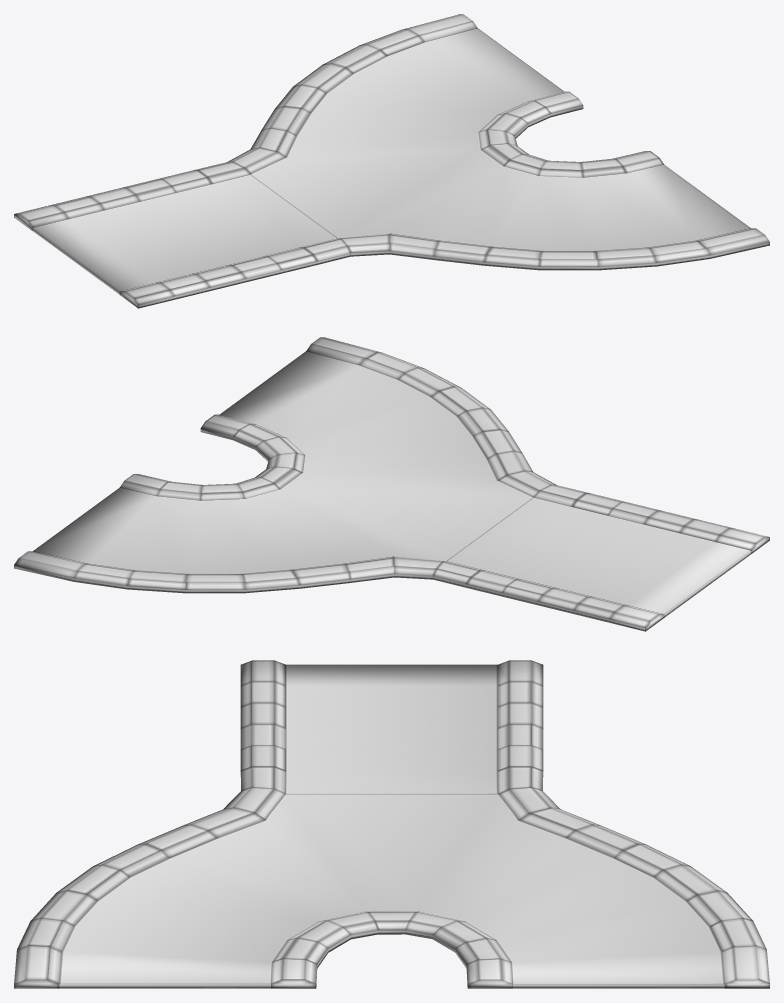
The model's file is Track-07.fbx.
The picture shows the model from 3 angles, top to bottom: view 1: azimuth 30°, elevation 25°; view 2: azimuth 150°, elevation 25°; view 3: azimuth 270°, elevation 25°; orthographic projection. The views are drawn at different scales.
Visible parts, largest first — view 1: Track-07; view 2: Track-07; view 3: Track-07.
Boxes of the visible parts, x1,y1,x2,y2 form: Track-07: (14, 14, 769, 308); Track-07: (14, 337, 769, 631); Track-07: (14, 660, 769, 988).
Size of the model in its own units: 5 by 0.0625 by 5.
